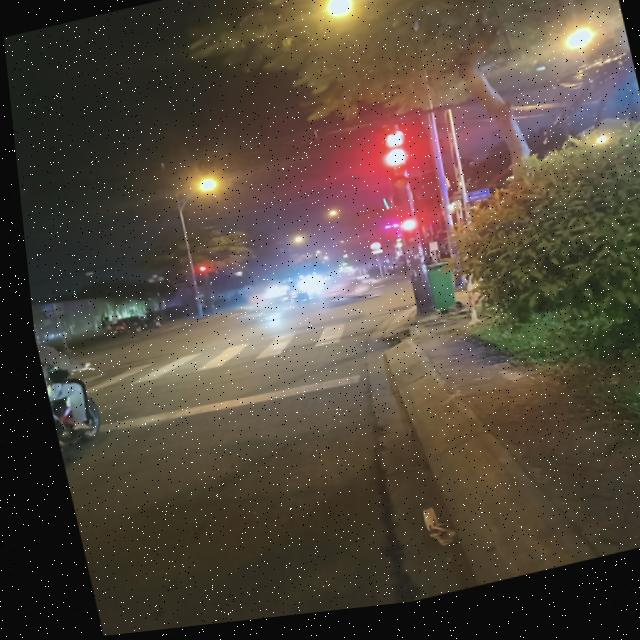Red: (371, 148, 411, 210), (390, 220, 418, 264)
